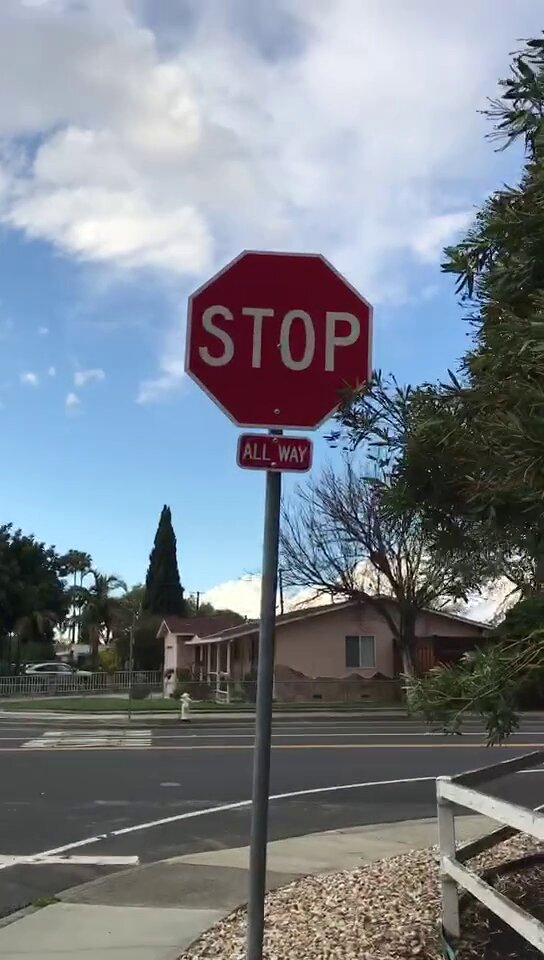stop_sign: (185, 251, 371, 428)
